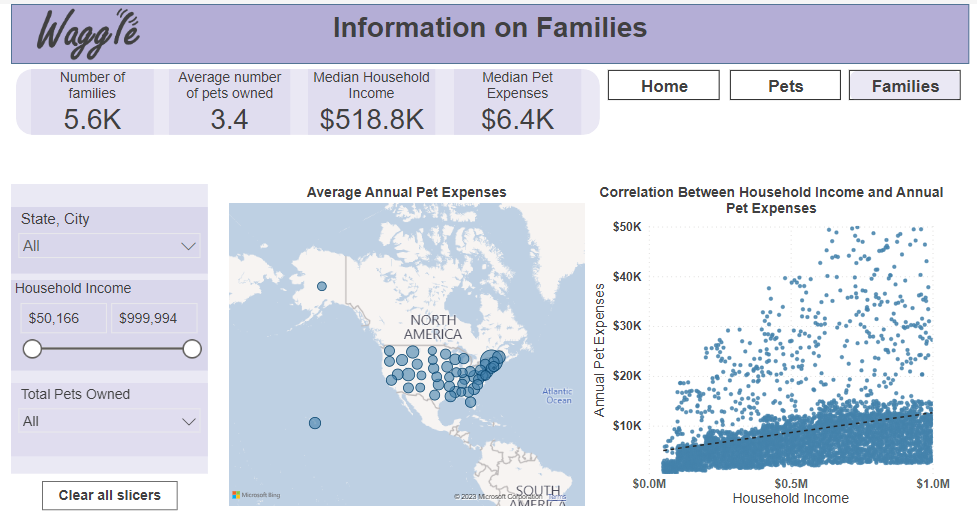

The page's visual inventory and layout, read from the dashboard file:
{"tool":"powerbi","page":{"name":"Family","canvas":[1280,720],"ordinal":2},"visuals":[{"type":"shape","box":[0,240,263,386.6],"z":0},{"type":"shape","box":[7.2,87,779.7,88.4],"z":1000},{"type":"scatterChart","title":"Correlation Between Household Income and Annual Pet Expenses","fields":{"X":["Family_Data.Household_Income"],"Y":["Family_Data.Annual_Pet_Expenses"]},"box":[771.7,240,487.2,435.4],"z":2000},{"type":"map","title":"Average Annual Pet Expenses","fields":{"Category":["Family_Data.State"],"Size":["Avg(Family_Data.Annual_Pet_Expenses)"]},"box":[286,240,485.7,435.4],"z":3000},{"type":"shape","box":[0,0,1280.5,80],"z":4000},{"type":"slicer","fields":{"Values":["Family_Data.State","Family_Data.City"]},"box":[0,271.6,263,89.1],"z":5000},{"type":"textbox","box":[398.1,5.7,484.3,67.5],"z":6000},{"type":"actionButton","title":"Pets Info","box":[797.6,87.7,149.5,40.2],"z":7000},{"type":"actionButton","title":"Pets Info","box":[960,87.7,148,40.2],"z":8000},{"type":"actionButton","title":"Families Info","box":[1119.5,87.7,149.5,40.2],"z":9000},{"type":"card","title":"Number of families","fields":{"Values":["CountNonNull(Family_Data.Family_ID)"]},"box":[26.1,87,163.8,88.4],"z":10000},{"type":"card","title":"Average number of pets owned","fields":{"Values":["Avg(Family_Data.Total_Pets)"]},"box":[211.6,87,162.3,88.4],"z":11000},{"type":"card","title":"Median Household Income","fields":{"Values":["Median(Family_Data.Household_Income)"]},"box":[397.1,87,169.6,88.4],"z":12000},{"type":"card","title":"Median Pet Expenses","fields":{"Values":["Median(Family_Data.Annual_Pet_Expenses)"]},"box":[591.3,87,169.6,88.4],"z":13000},{"type":"actionButton","box":[41.7,636.6,181.1,38.8],"z":14000},{"type":"slicer","title":"Household Income","fields":{"Values":["Family_Data.Household_Income"]},"box":[0,369.3,263,120.7],"z":16000},{"type":"slicer","fields":{"Values":["Family_Data.Total_Pets"]},"box":[0,505.9,263,97.7],"z":17000}]}

Visuals, with their boxes on the page's 1280x720 design canvas (x1, y1, x2, y2). These are canvas units, not pixel positions in the 977x526 screenshot, which may show the page scaled, cropped or inside an application window:
shape: 0, 240, 263, 627
shape: 7, 87, 787, 175
"Correlation Between Household Income and Annual Pet Expenses" scatterChart: 772, 240, 1259, 675
"Average Annual Pet Expenses" map: 286, 240, 772, 675
shape: 0, 0, 1280, 80
slicer - Family_Data.State x Family_Data.City: 0, 272, 263, 361
textbox: 398, 6, 882, 73
"Pets Info" actionButton: 798, 88, 947, 128
"Pets Info" actionButton: 960, 88, 1108, 128
"Families Info" actionButton: 1120, 88, 1269, 128
"Number of families" card: 26, 87, 190, 175
"Average number of pets owned" card: 212, 87, 374, 175
"Median Household Income" card: 397, 87, 567, 175
"Median Pet Expenses" card: 591, 87, 761, 175
actionButton: 42, 637, 223, 675
"Household Income" slicer: 0, 369, 263, 490
slicer - Family_Data.Total_Pets: 0, 506, 263, 604
